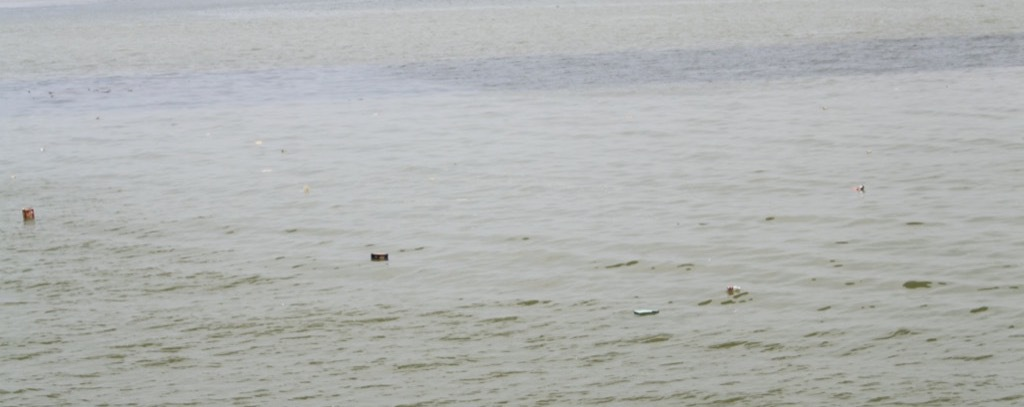plastic: (361, 245, 403, 272), (626, 301, 668, 323), (718, 280, 750, 300), (17, 204, 39, 230), (846, 178, 871, 200), (813, 100, 841, 118), (254, 160, 279, 180), (296, 181, 318, 200), (30, 139, 48, 160), (860, 145, 882, 162), (424, 171, 441, 188), (249, 134, 267, 150), (6, 169, 22, 186)
